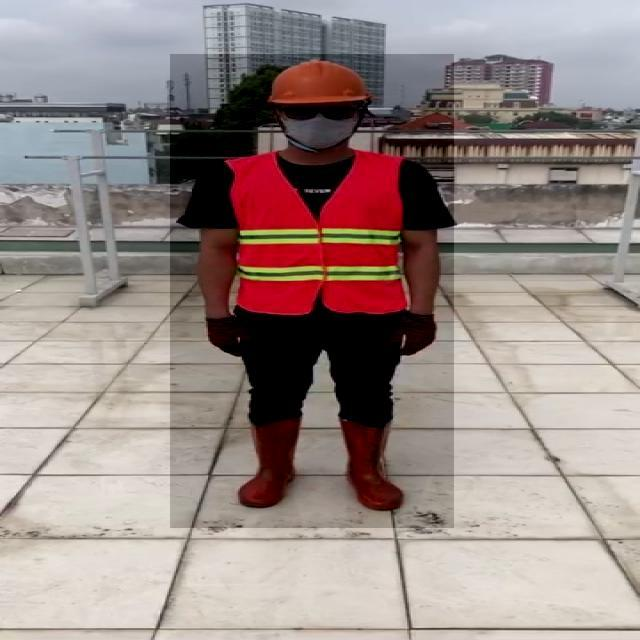Gloves: (204, 315, 258, 358), (388, 314, 438, 357)
Helmet: (258, 62, 376, 104)
Human: (171, 54, 455, 528)
Safety Boot: (342, 415, 406, 514), (240, 415, 302, 507)
Safety Vest: (222, 150, 414, 315)
